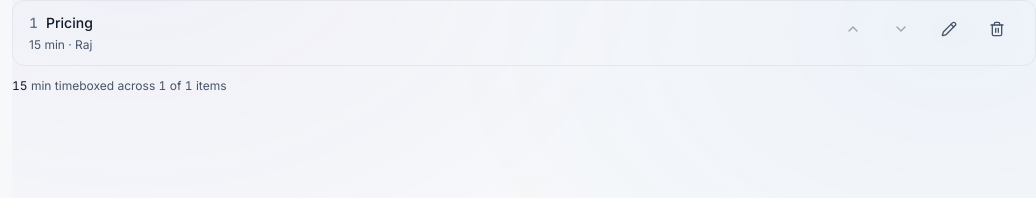
Test: a refused edit keeps the form open with what was typed, and says why
Step 1. Click the button named "Edit \"Pricing\"" → [949, 29], box 927,13 -> 971,45
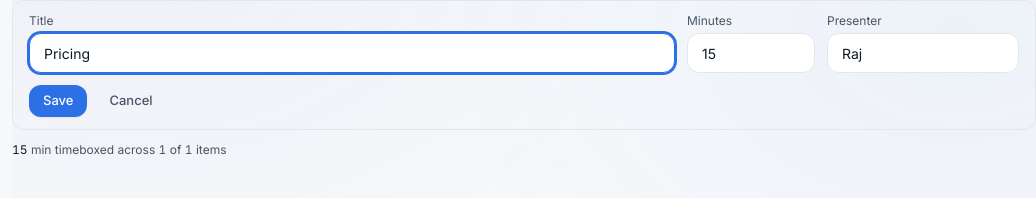
Step 2. Replace the text in the field labelled "Title" with "Pricing v2" → [352, 53], box 29,33 -> 675,73
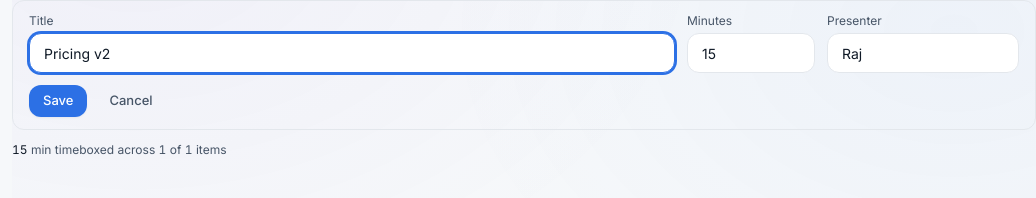
Step 3. Click the button "Save" → [58, 101], box 29,85 -> 88,117
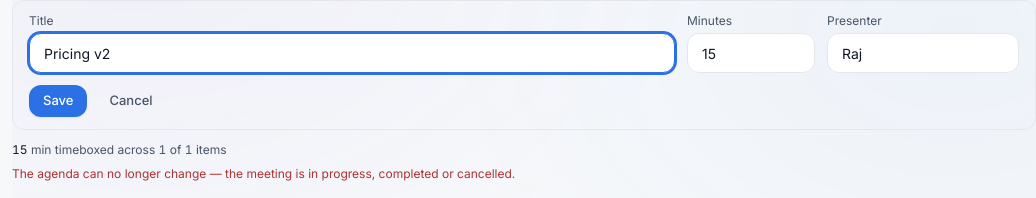
Now the message is shown, box 12,166 -> 515,181
